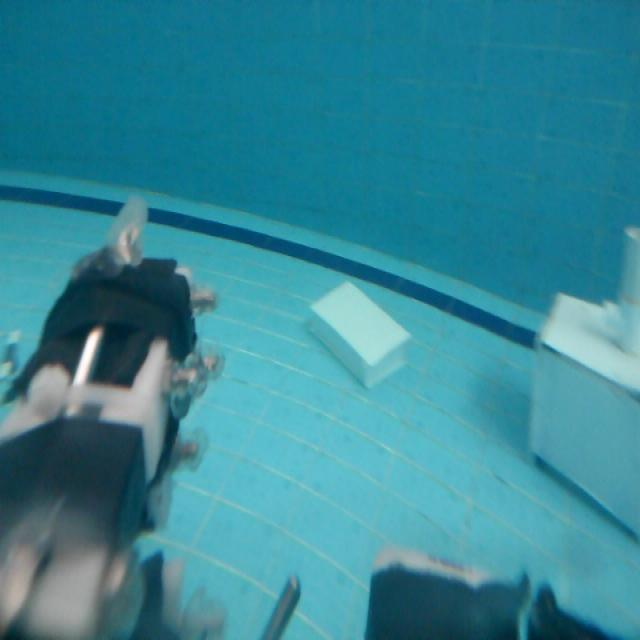Cube: (523, 290, 640, 562)
Cuboid: (306, 276, 412, 389)
